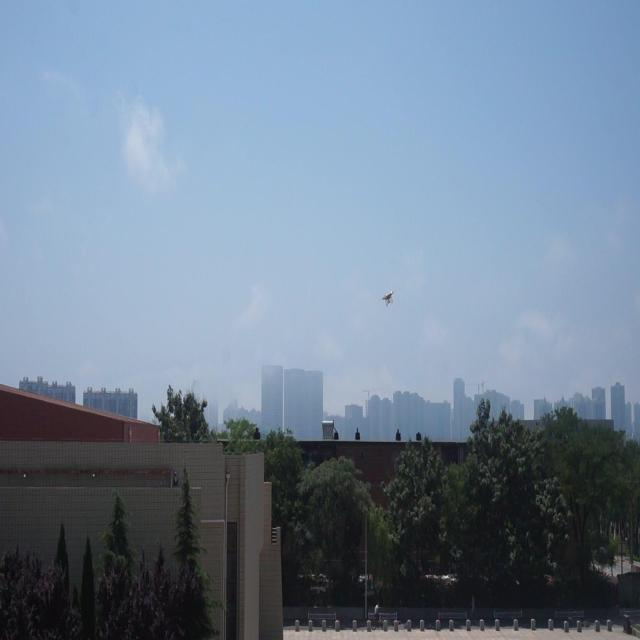drone: (378, 286, 396, 311)
